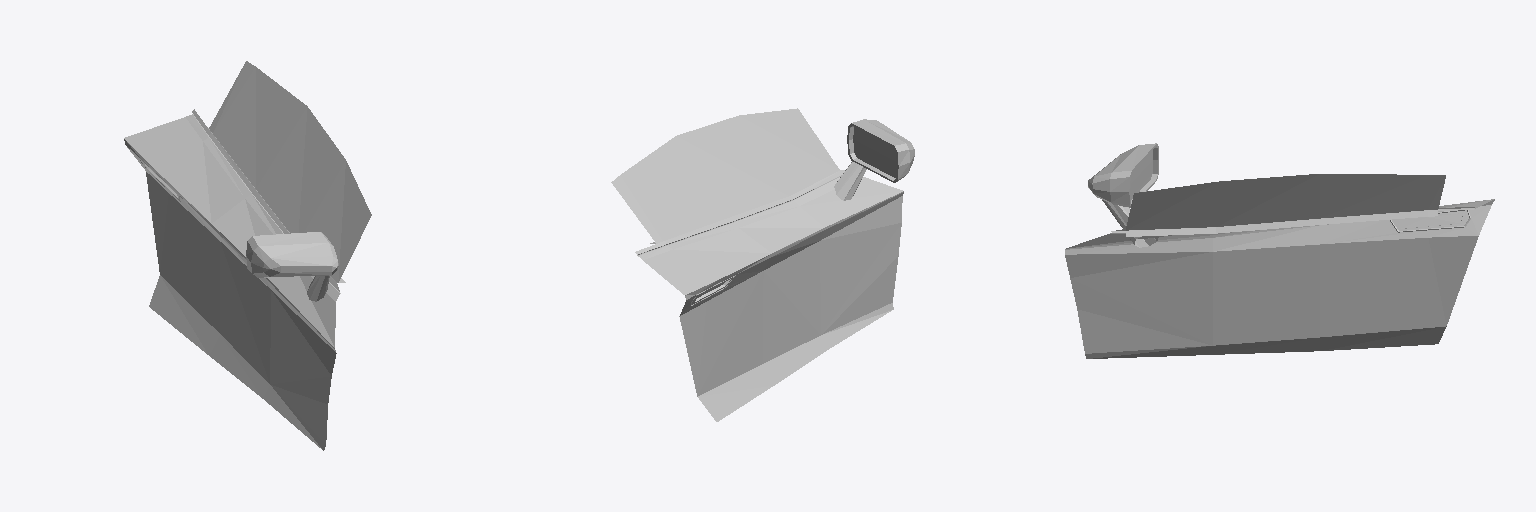
The model's file is Lamborghini_Aventador_right_dor.obj.
3 views of the same model, side by side, from view 1: azimuth 30°, elevation 25°; view 2: azimuth 150°, elevation 25°; view 3: azimuth 270°, elevation 25° (orthographic).
Parts seen in each view (by area): view 1: Lamborghini_Aventador:Body.002_Lamborghini_Aventador:Body.009; view 2: Lamborghini_Aventador:Body.002_Lamborghini_Aventador:Body.009; view 3: Lamborghini_Aventador:Body.002_Lamborghini_Aventador:Body.009.
Boxes of the visible parts, <box> form: Lamborghini_Aventador:Body.002_Lamborghini_Aventador:Body.009: <box>124,61,371,450</box>; Lamborghini_Aventador:Body.002_Lamborghini_Aventador:Body.009: <box>611,108,914,421</box>; Lamborghini_Aventador:Body.002_Lamborghini_Aventador:Body.009: <box>1065,143,1494,358</box>.
Bounding box in the file's own units: 0.5714 × 0.8681 × 1.44.